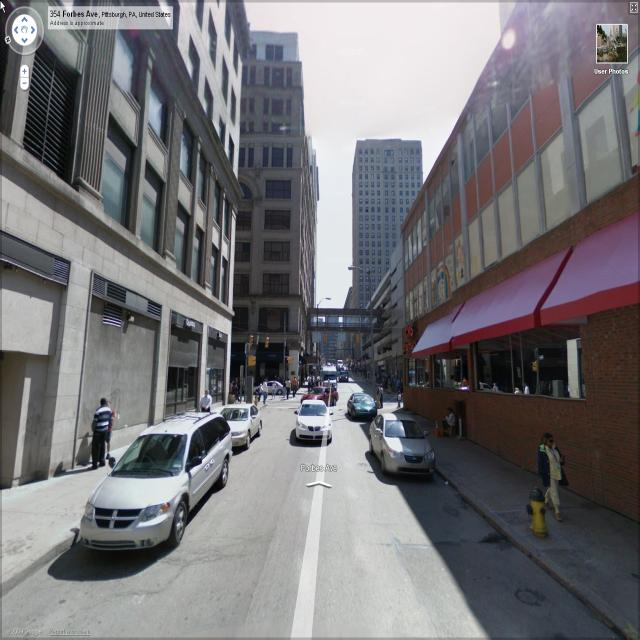b_1: (407, 3, 640, 409), (3, 1, 233, 388), (236, 41, 330, 385), (350, 134, 428, 298)
